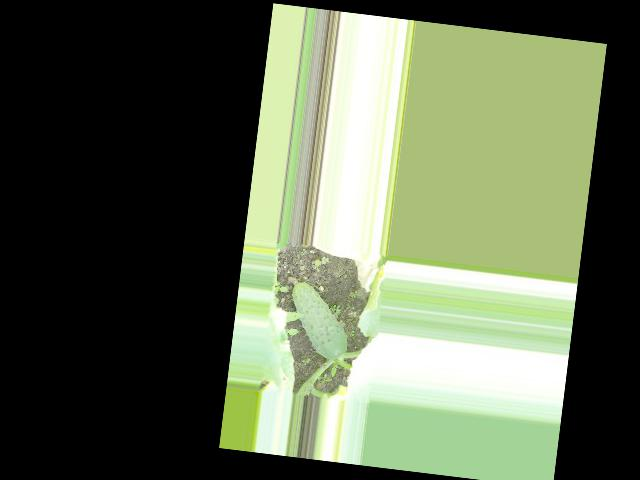cucumber: (284, 281, 354, 362)
